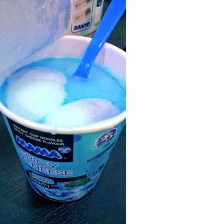paper_cup: (0, 0, 125, 208)
